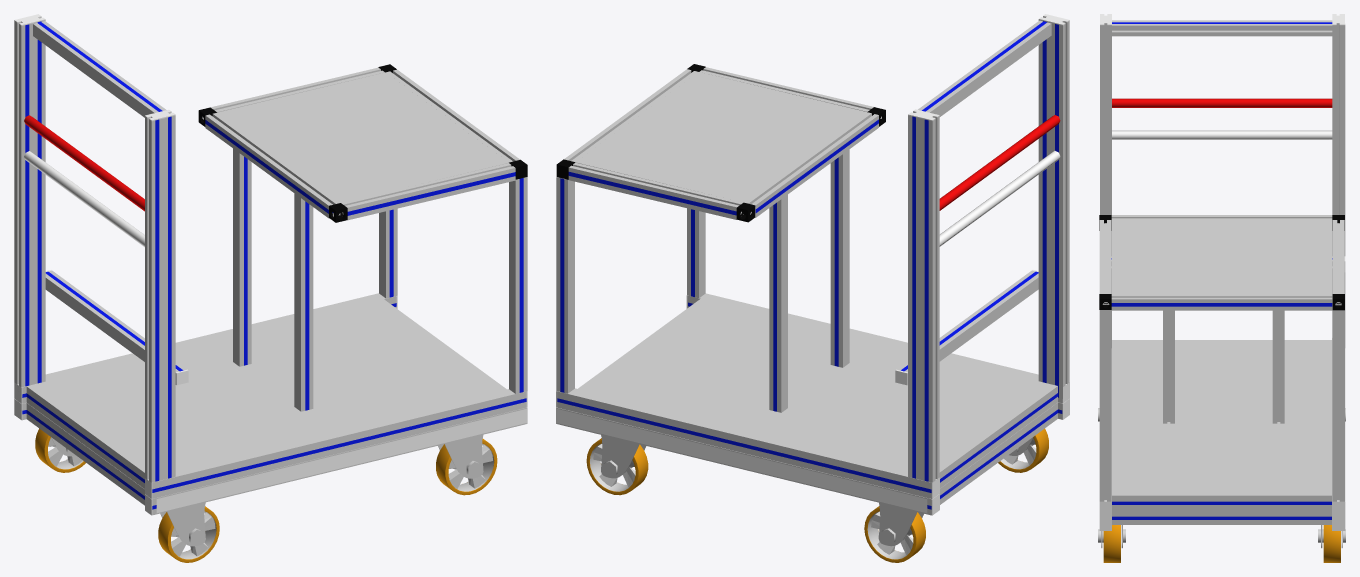
The model's file is RC07 Kühlung.FBX.
The picture shows the model from 3 angles, left to right: view 1: azimuth 30°, elevation 25°; view 2: azimuth 150°, elevation 25°; view 3: azimuth 270°, elevation 25°; orthographic projection. The views are drawn at different scales.
Parts seen in each view (by area): view 1: Trolly_12; view 2: Trolly_12; view 3: Trolly_12.
Boxes of the visible parts, x1,y1,x2,y2 form: Trolly_12: (14,14,527,562); Trolly_12: (556,14,1069,562); Trolly_12: (1098,14,1345,562).
Bounding box in the file's own units: 12.24 × 14.13 × 7.82.
